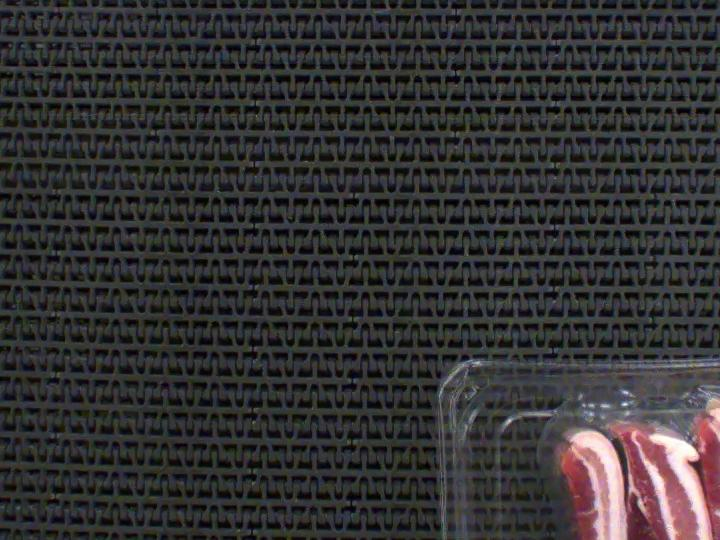unsealed: (515, 363, 720, 540)
